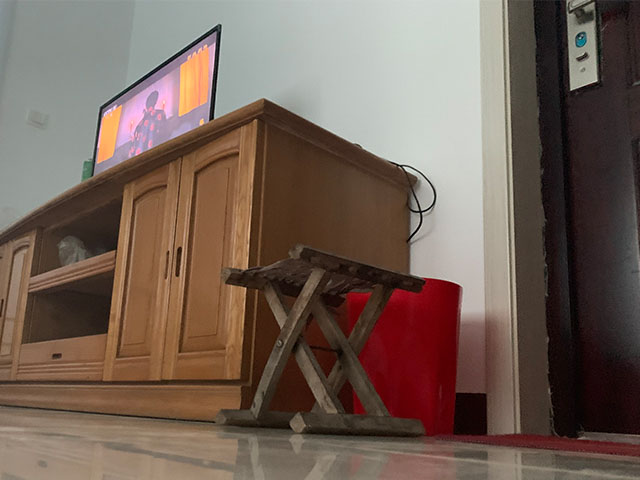cabinet: (1, 96, 419, 424)
carpet: (434, 431, 640, 460)
stool: (213, 243, 426, 439)
trashcan: (344, 276, 463, 439)
